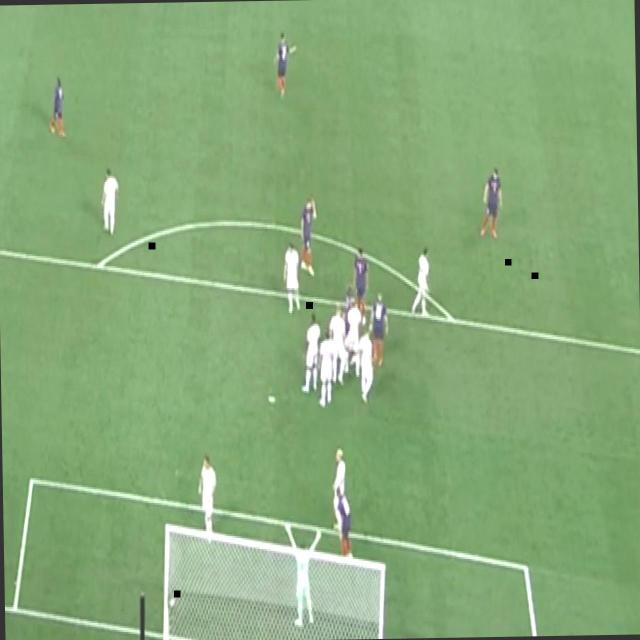player-white: (284, 522, 324, 628), (479, 164, 505, 240), (272, 31, 298, 101), (300, 313, 322, 395), (198, 454, 218, 544), (282, 239, 304, 315), (368, 289, 389, 366), (409, 246, 431, 318), (328, 304, 347, 386), (335, 486, 354, 564), (300, 194, 318, 276), (318, 329, 336, 409), (99, 168, 119, 238), (344, 298, 362, 374), (332, 446, 348, 530), (48, 73, 68, 138), (358, 326, 374, 404), (352, 244, 370, 308), (342, 286, 356, 336)
